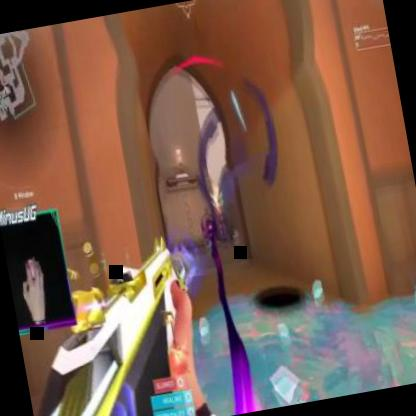enemy: (212, 201, 228, 242)
enemy_head: (214, 200, 222, 212)
